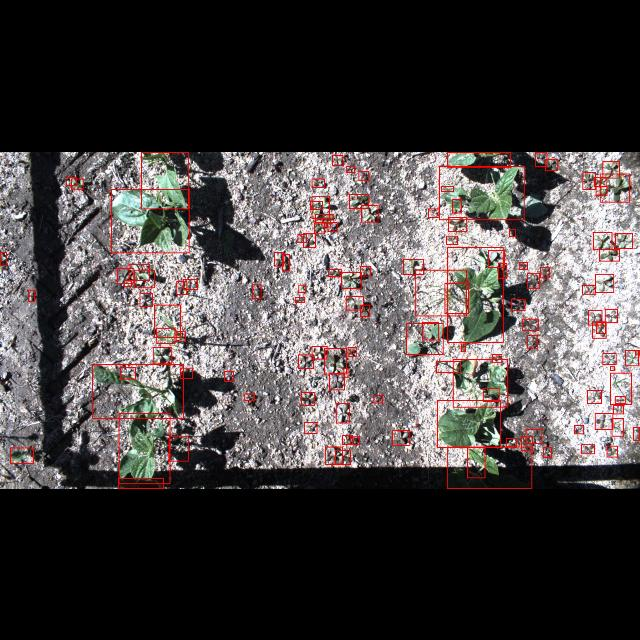crop: (448, 246, 502, 342), (111, 188, 189, 252), (92, 364, 184, 418), (440, 165, 524, 219), (119, 412, 170, 483), (446, 447, 532, 488), (438, 400, 500, 448), (452, 359, 508, 407), (142, 152, 188, 208), (448, 152, 510, 166), (118, 478, 164, 488), (157, 327, 175, 343)
weed: (416, 269, 466, 315), (406, 322, 444, 353), (600, 173, 630, 201), (155, 304, 181, 336), (445, 283, 469, 313), (610, 372, 632, 403), (324, 348, 346, 374), (468, 447, 484, 478), (168, 436, 188, 460), (11, 447, 34, 463), (312, 195, 328, 218), (134, 269, 154, 287), (594, 273, 614, 291), (129, 263, 149, 279), (152, 346, 172, 362), (341, 272, 361, 288), (403, 258, 423, 274), (592, 232, 612, 248), (326, 446, 342, 464), (362, 204, 378, 222), (392, 430, 410, 446), (422, 322, 438, 340), (449, 216, 467, 232), (595, 413, 613, 429), (336, 403, 350, 423), (349, 193, 368, 207), (436, 361, 460, 372), (117, 267, 133, 283), (526, 428, 542, 444), (488, 250, 504, 266), (603, 161, 619, 177), (616, 232, 632, 248), (330, 372, 344, 390), (346, 295, 364, 309), (298, 354, 314, 368), (526, 272, 540, 288), (582, 172, 596, 188), (592, 321, 606, 337), (483, 388, 499, 402), (599, 250, 619, 260), (336, 450, 350, 464), (588, 310, 602, 324), (522, 318, 538, 330), (626, 349, 638, 365), (587, 391, 601, 404), (612, 418, 622, 436), (140, 292, 152, 306), (303, 232, 315, 246), (312, 346, 326, 358), (301, 392, 315, 404), (526, 334, 538, 348), (511, 298, 525, 310), (605, 308, 617, 322), (120, 368, 136, 378), (316, 213, 334, 221), (498, 262, 507, 278), (546, 158, 558, 170), (177, 280, 187, 294), (183, 279, 197, 289), (252, 284, 262, 298), (274, 251, 284, 265), (452, 198, 462, 212), (522, 436, 532, 450), (536, 152, 546, 166), (582, 284, 596, 294), (602, 354, 616, 364), (282, 253, 290, 270), (305, 422, 317, 433), (71, 178, 83, 188), (181, 368, 193, 378), (360, 304, 370, 316), (594, 176, 606, 186), (582, 444, 594, 454), (328, 268, 342, 276), (596, 322, 606, 333), (314, 222, 324, 232), (360, 265, 370, 275), (333, 154, 343, 164), (358, 170, 368, 180), (540, 267, 550, 277), (596, 185, 606, 195), (613, 404, 623, 414), (574, 424, 584, 434), (607, 446, 617, 456), (447, 234, 458, 243), (312, 178, 324, 186), (310, 200, 322, 208), (177, 331, 186, 341), (224, 371, 233, 381), (428, 208, 439, 216), (0, 251, 6, 265), (66, 176, 76, 184), (342, 436, 352, 444), (350, 436, 360, 444), (348, 346, 356, 356), (506, 438, 516, 446), (543, 447, 551, 457), (492, 354, 502, 362), (615, 396, 625, 404), (633, 426, 639, 439), (29, 289, 35, 301), (328, 222, 337, 230), (373, 395, 382, 403), (244, 394, 254, 401), (322, 218, 330, 226), (298, 234, 306, 242), (346, 164, 354, 172), (295, 296, 305, 302), (299, 284, 305, 292), (460, 343, 466, 351), (519, 262, 527, 268), (509, 228, 515, 236), (441, 186, 453, 190), (125, 280, 132, 286), (344, 368, 348, 377), (610, 366, 614, 370), (635, 350, 639, 354)
